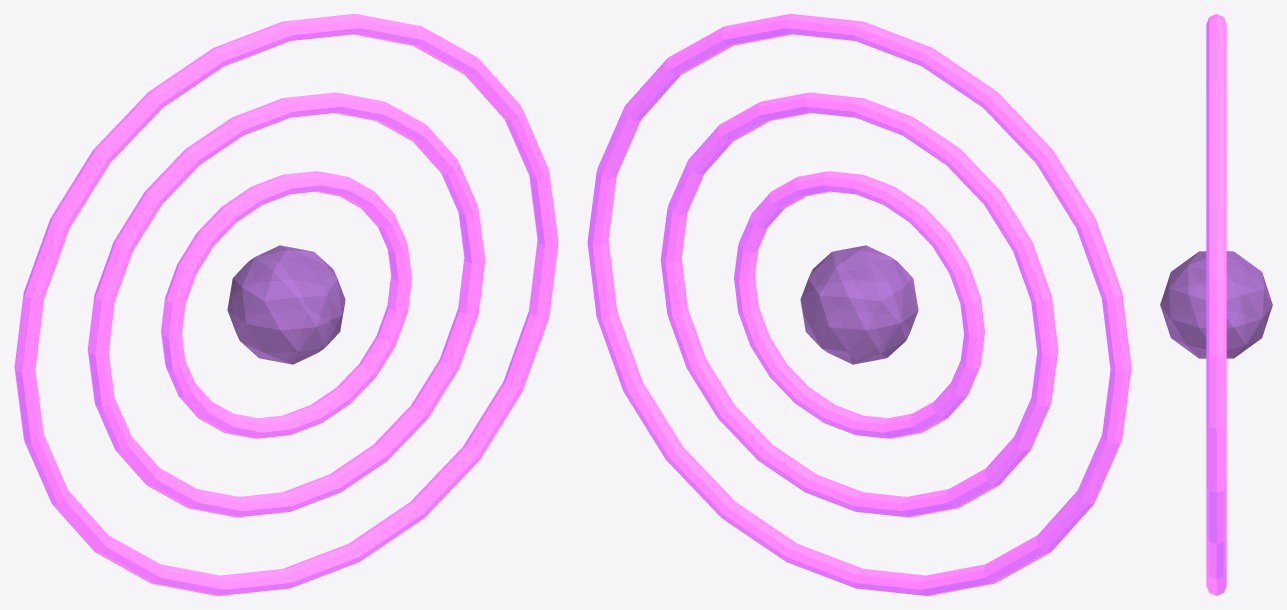
Rendered from echo-warden-awakening.glb.
3 renders of one model, left to right at view 1: azimuth 30°, elevation 25°; view 2: azimuth 150°, elevation 25°; view 3: azimuth 270°, elevation 25°, orthographic. The views are drawn at different scales.
Parts seen in each view (by area): view 1: awakening-ring-2, awakening-ring-1, awakening-ring-0, awakening-flare-core; view 2: awakening-ring-2, awakening-ring-1, awakening-ring-0, awakening-flare-core; view 3: awakening-ring-2, awakening-flare-core.
Part boxes in pixels (x1,y1,x2,y2): awakening-ring-2: (14, 14, 558, 595); awakening-ring-1: (87, 92, 485, 517); awakening-ring-0: (161, 171, 411, 438); awakening-flare-core: (227, 245, 345, 364); awakening-ring-2: (587, 14, 1131, 595); awakening-ring-1: (660, 92, 1058, 517); awakening-ring-0: (734, 171, 984, 438); awakening-flare-core: (800, 245, 918, 364); awakening-ring-2: (1206, 14, 1226, 595); awakening-flare-core: (1160, 251, 1272, 358).
Bounding box in the file's own units: 1.04 × 1.04 × 0.2.
